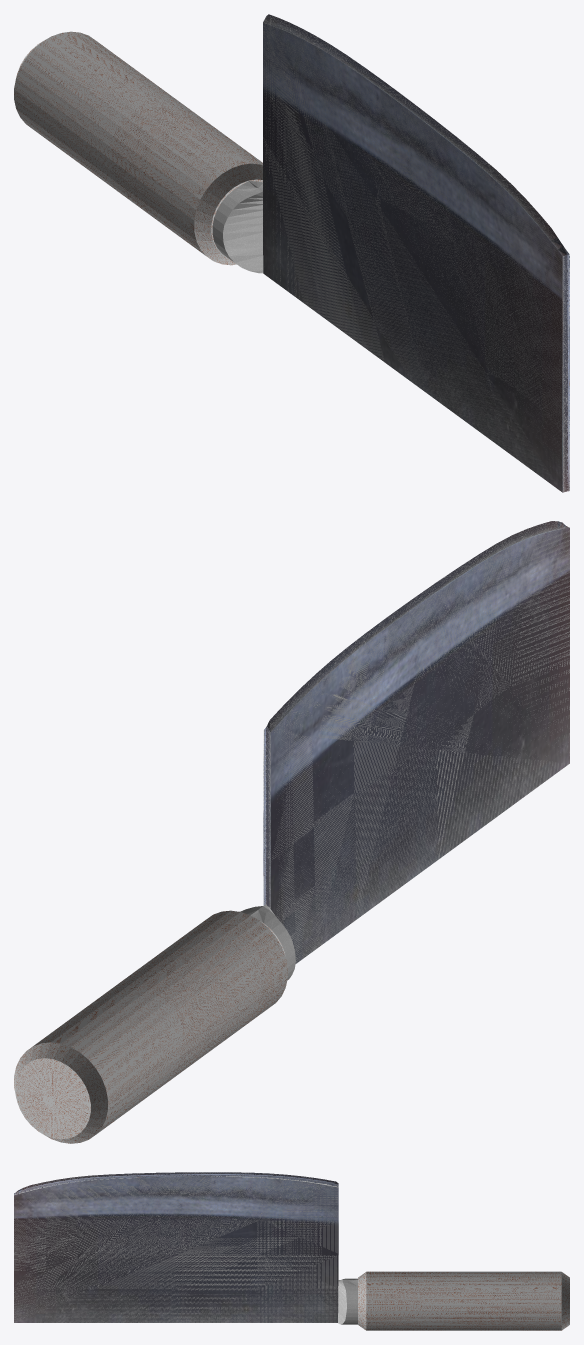
Rendered from model_scale.obj.
The picture shows the model from 3 angles, top to bottom: view 1: azimuth 30°, elevation 25°; view 2: azimuth 150°, elevation 25°; view 3: azimuth 270°, elevation 25°; orthographic projection. The views are drawn at different scales.
Visible parts, largest first — view 1: mesh1_mesh1-geometry, mesh2_mesh2-geometry, mesh3_mesh3-geometry; view 2: mesh1_mesh1-geometry, mesh2_mesh2-geometry, mesh3_mesh3-geometry; view 3: mesh1_mesh1-geometry, mesh2_mesh2-geometry, mesh3_mesh3-geometry.
Part boxes in pixels (x1,y1,x2,y2): mesh1_mesh1-geometry: (263,14,569,492); mesh2_mesh2-geometry: (14,31,262,265); mesh3_mesh3-geometry: (212,181,263,273); mesh1_mesh1-geometry: (263,521,569,963); mesh2_mesh2-geometry: (14,910,287,1143); mesh3_mesh3-geometry: (240,904,295,980); mesh1_mesh1-geometry: (14,1172,338,1322); mesh2_mesh2-geometry: (358,1271,569,1330); mesh3_mesh3-geometry: (338,1278,357,1324).
Bounding box in the file's own units: 0.0244 × 0.0713 × 0.2306.
4 materials, 2 textured.
